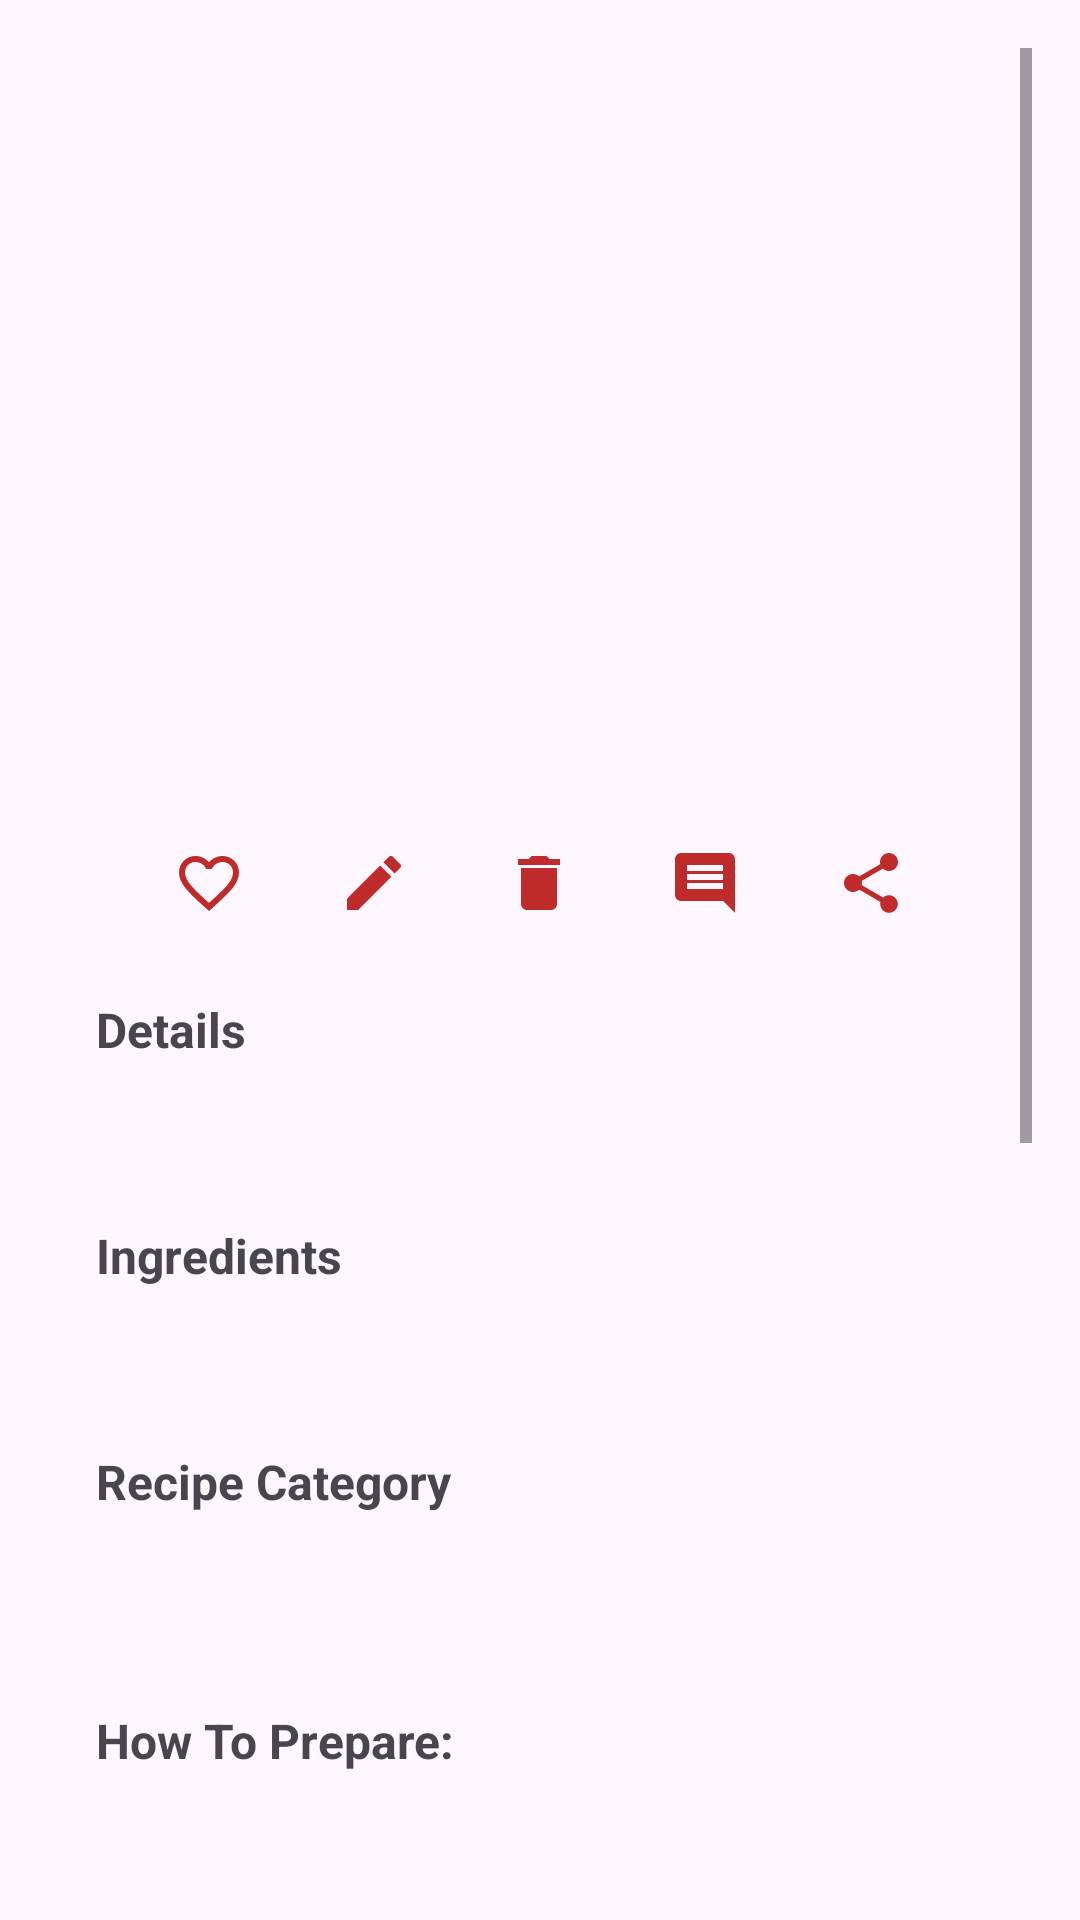

Where to tap for icons on this 1080 × 1920 app screen, as (x,y):
Delete: (539,883)
Edit: (374,883)
Favorite: (209,883)
Review Recipe: (705,883)
Share: (871,883)
